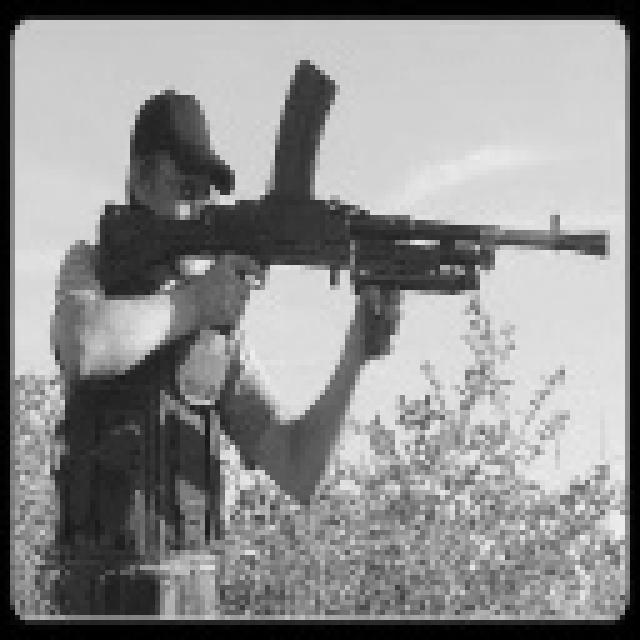Rifle: (83, 37, 629, 347)
